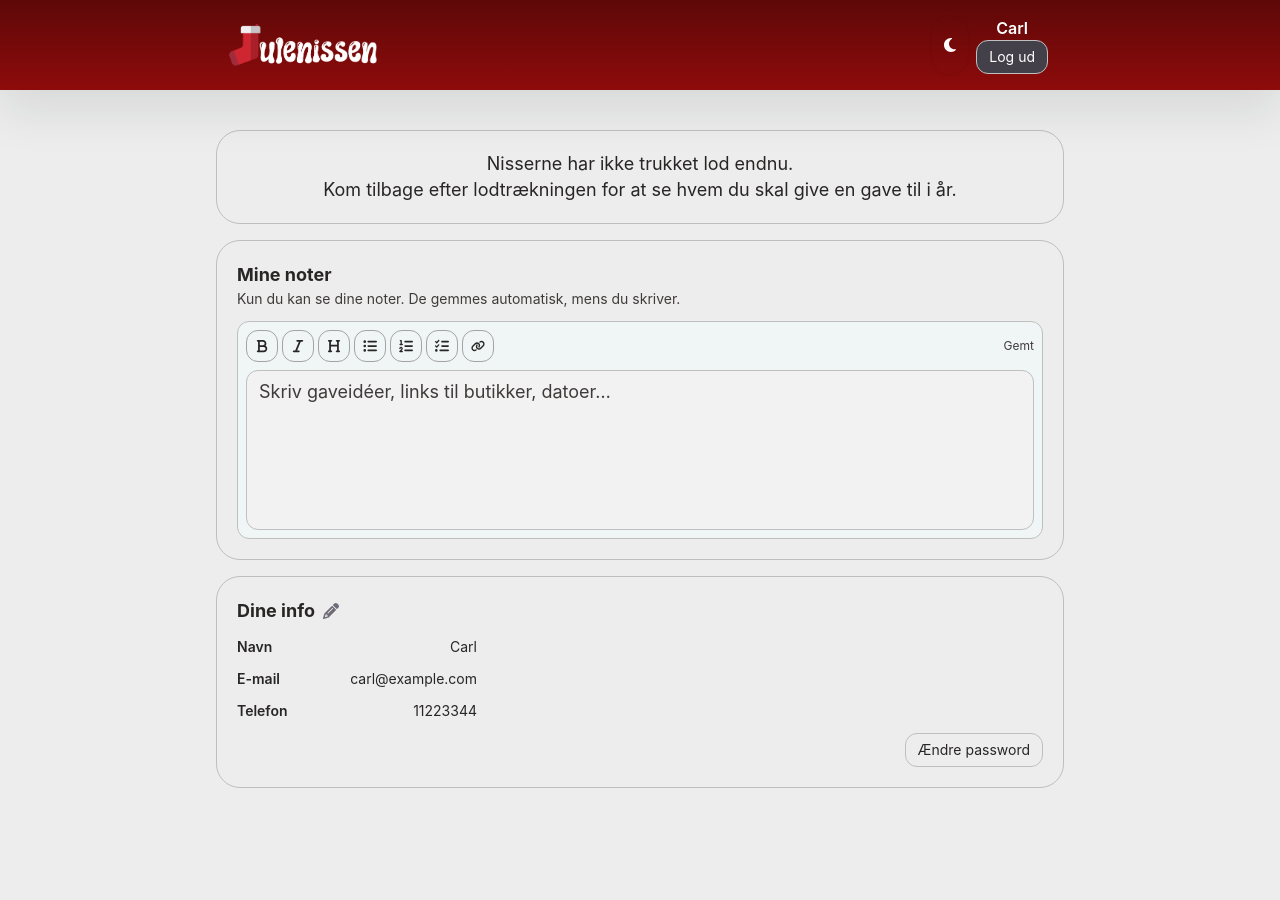
Test case: private notes › asks which version to keep when the note was saved elsewhere
Click the field named "Mine noter" at [640, 450], box left=246, top=370, right=1034, bottom=530
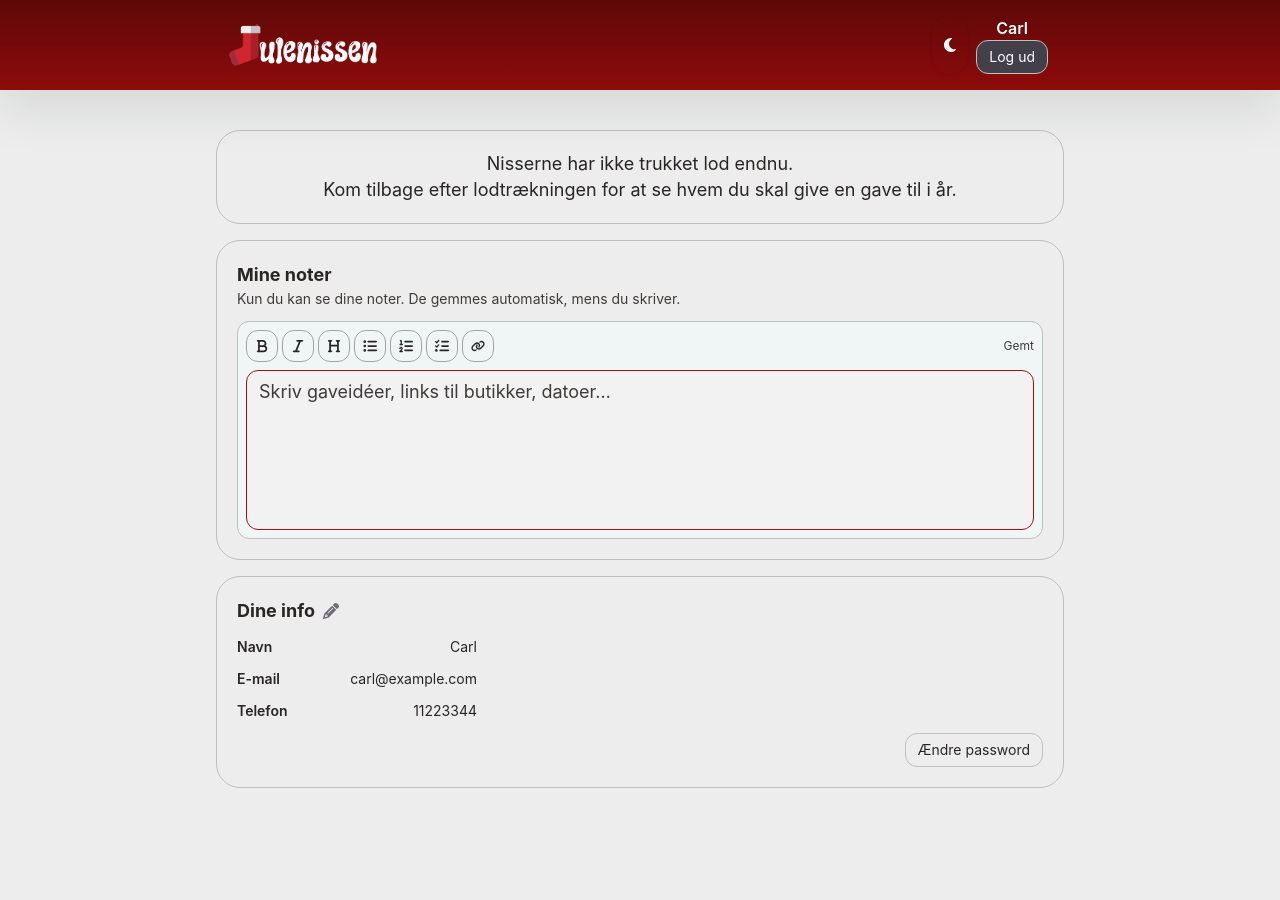
Type keys "Skrevet på computeren"
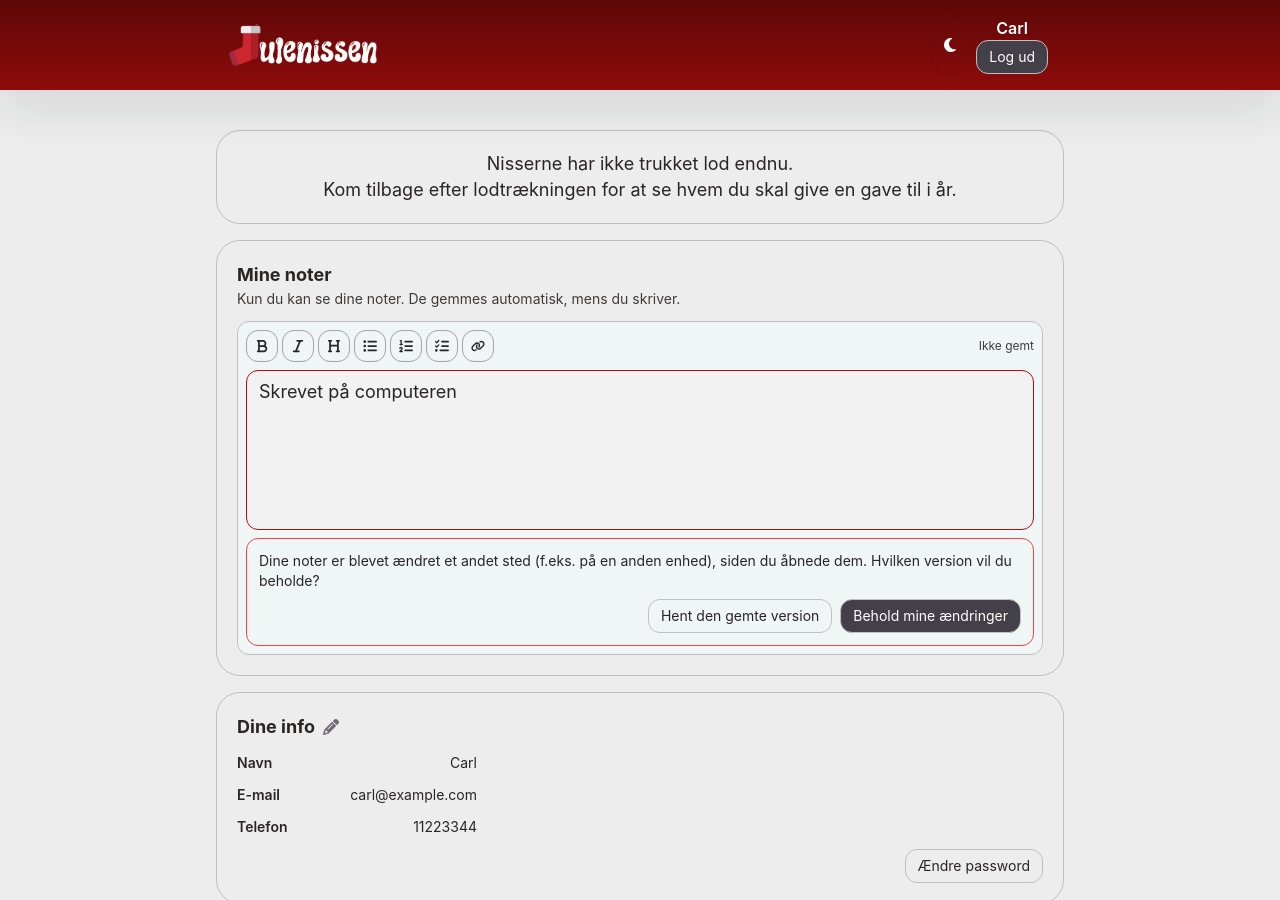
Click the button "Hent den gemte version" at [740, 616], box left=648, top=599, right=832, bottom=633
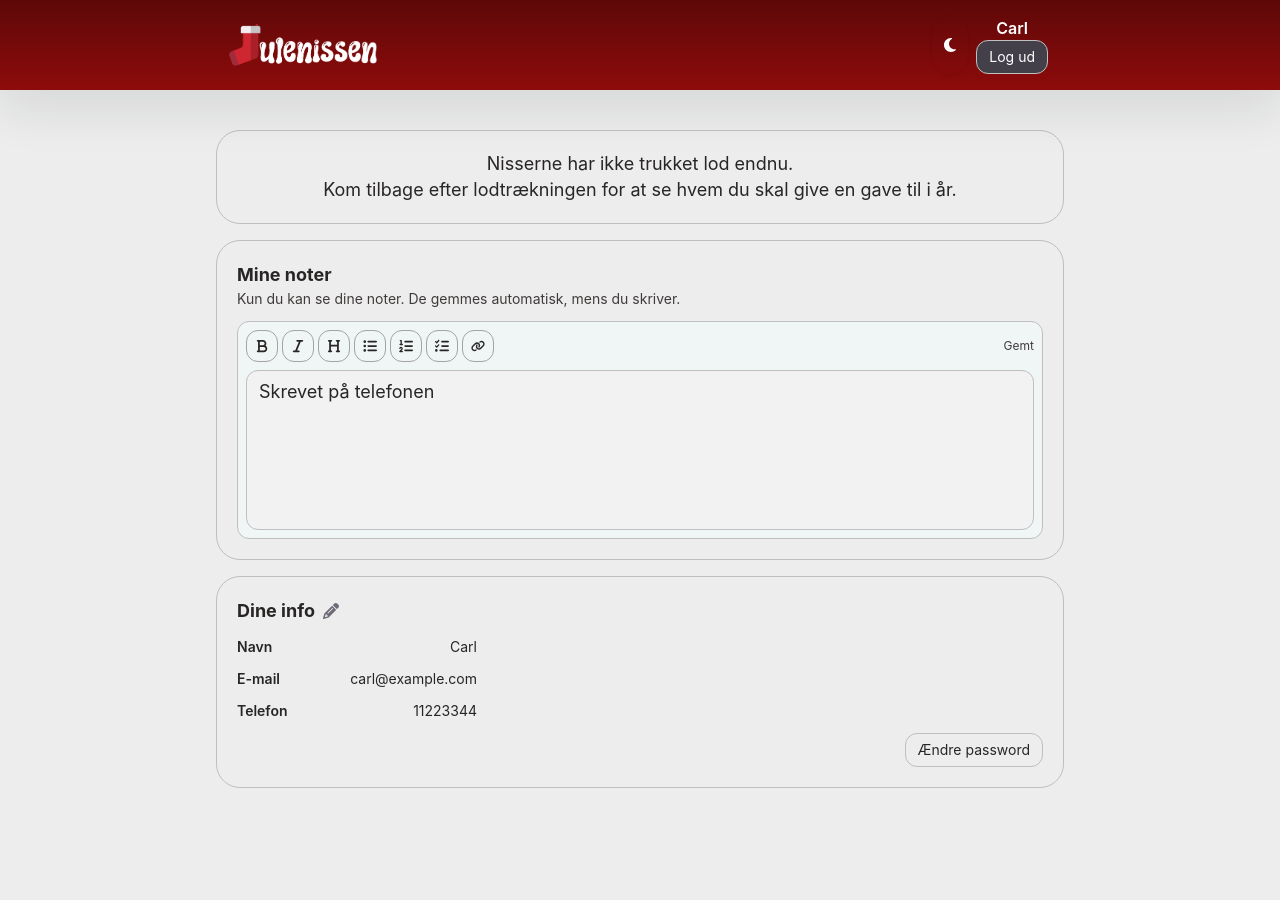
Expected: the text box "Skrevet på telefonen" is shown, left=259, top=381, right=434, bottom=402
